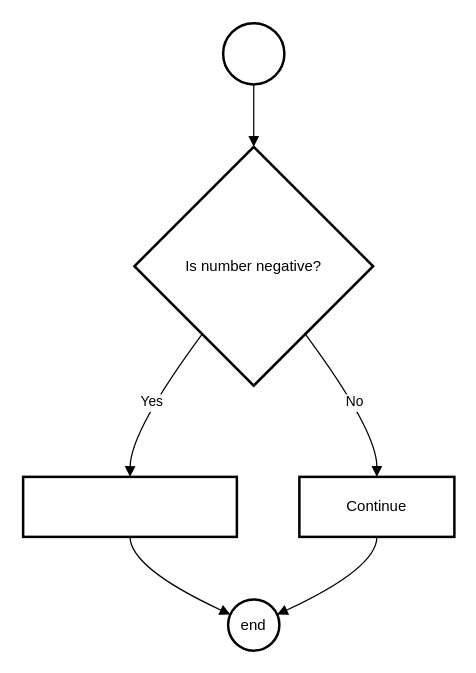
Image size: 476x673. Some labels were removed from this diagram. Here are the shapes that lost their labels. From the top down, the centre of each, then its label:
At [253,53]: "start".
At [129,506]: "Display number".
